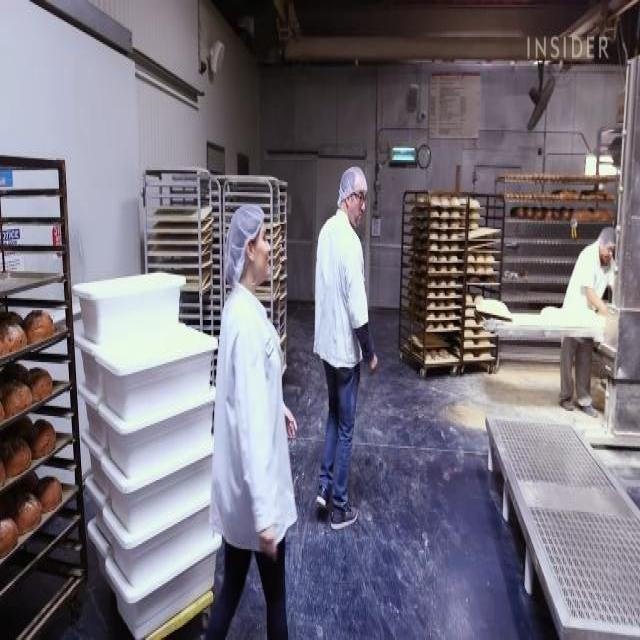bare_hand: (250, 515, 290, 566), (283, 401, 311, 443), (365, 344, 389, 391)
